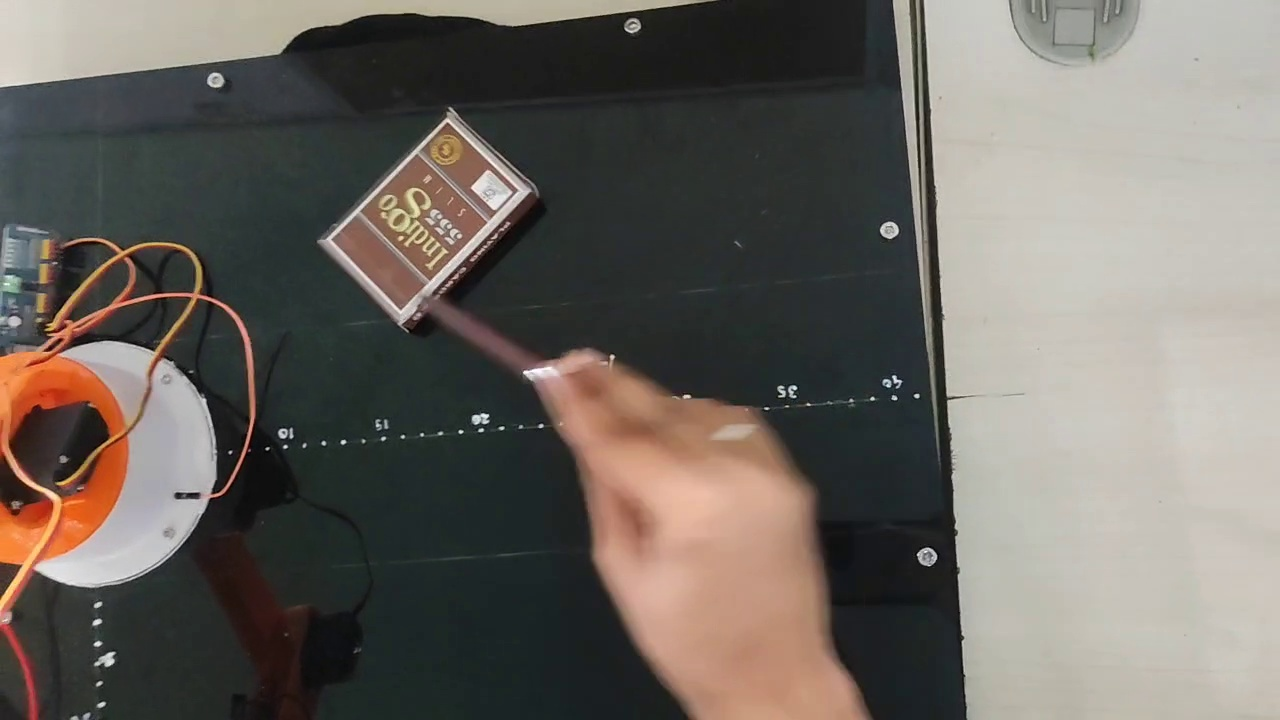BEX: (329, 113, 521, 308)
